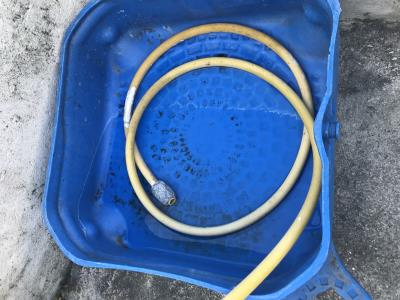box: (40, 2, 345, 298)
